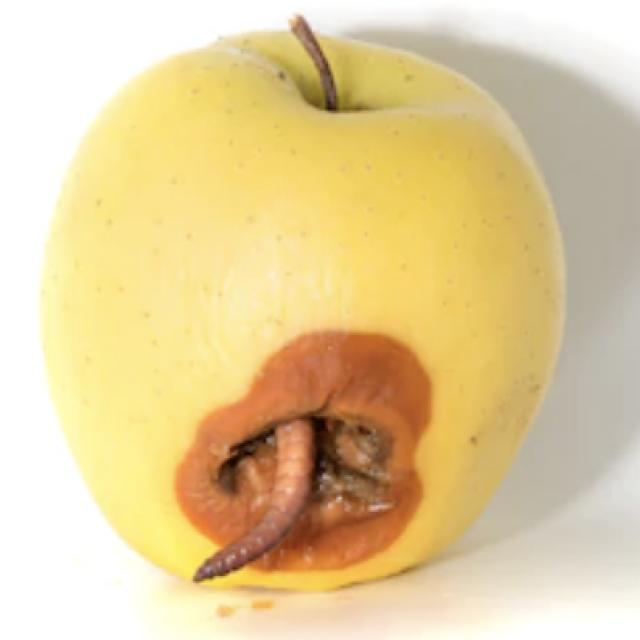rotten_apple: (37, 13, 571, 593)
